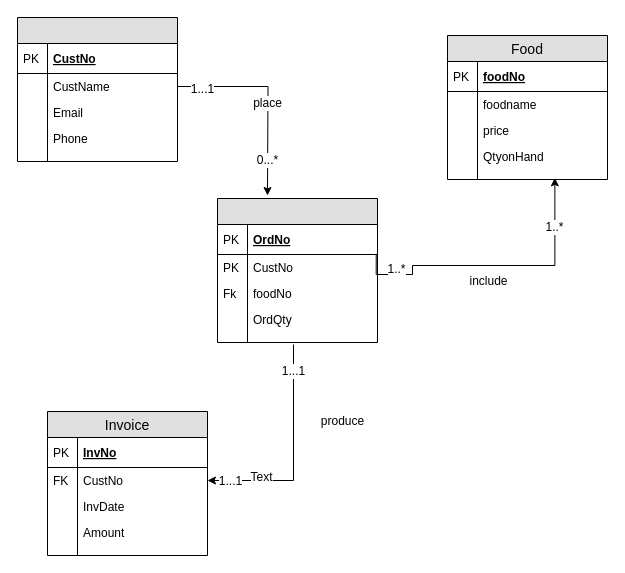
Some shapes in this 625 by 573 pixel diagram are drawn without their labels. The shapes that lost their labels are listed below. From the top down, each one's box as (x1, y1, x2, y2) in pixels, then its label:
(16, 16, 178, 162): Customer
(216, 198, 378, 342): Order
